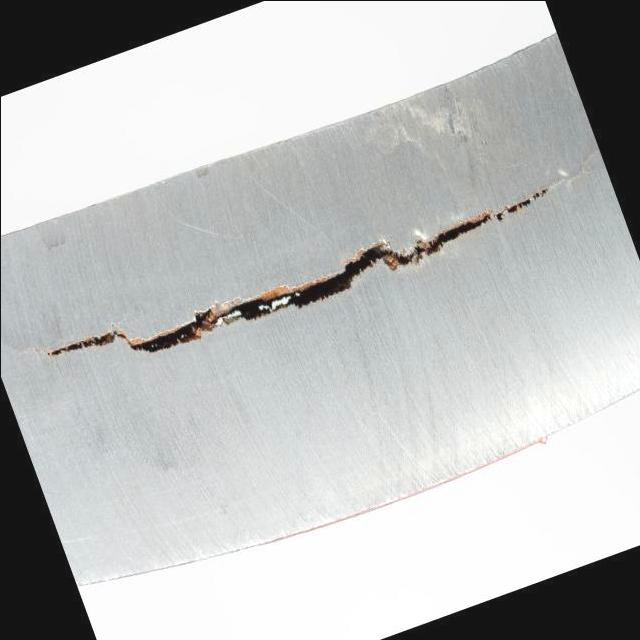defect: (37, 179, 551, 362)
